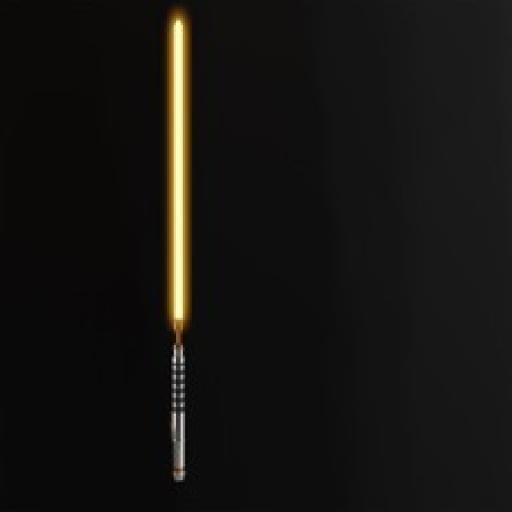lightsaber: (160, 8, 194, 483)
